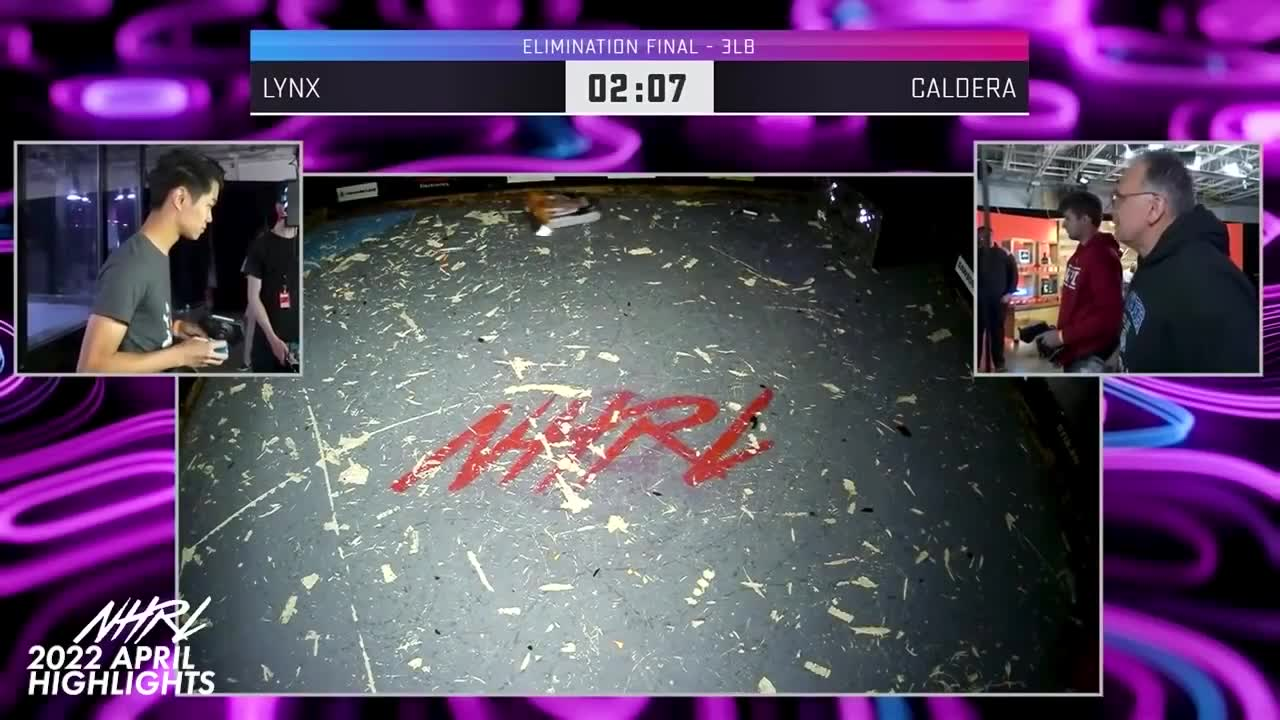combatbot: (520, 192, 598, 236)
debris: (731, 204, 760, 220)
housebot: (815, 176, 918, 267)
